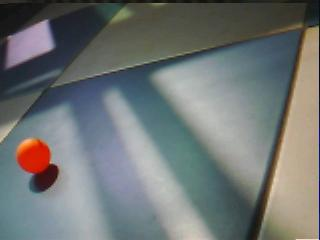oball: (16, 138, 50, 174)
